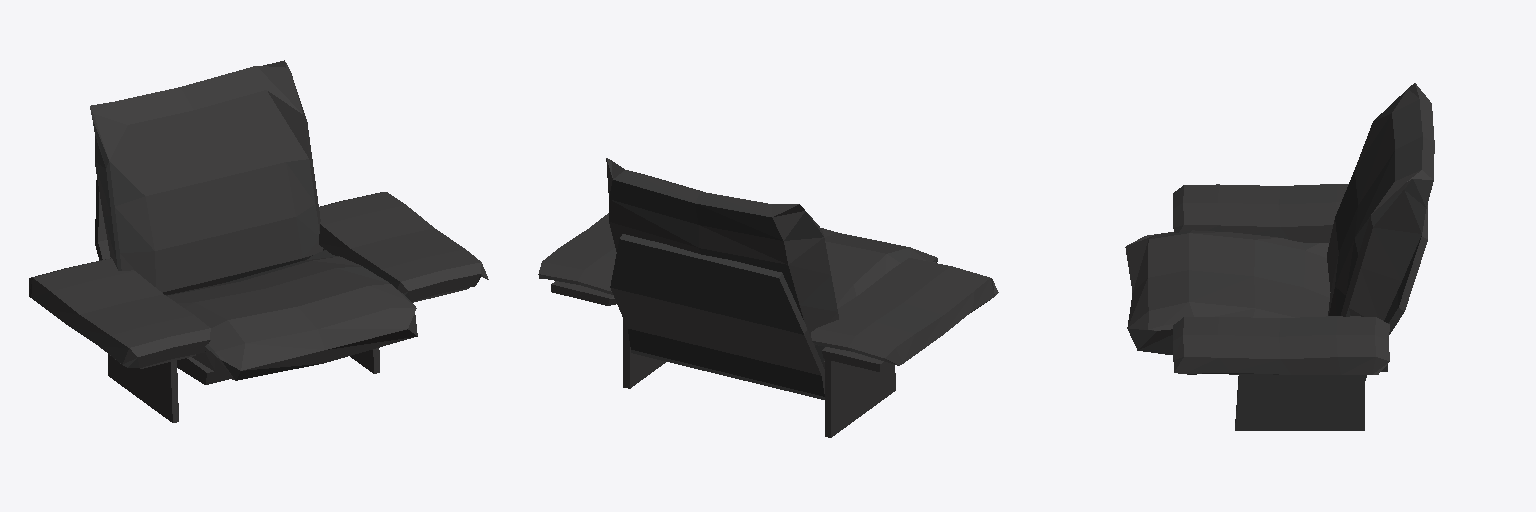
The model's file is Широкое кресло.obj.
3 renders of one model, left to right at view 1: azimuth 30°, elevation 25°; view 2: azimuth 150°, elevation 25°; view 3: azimuth 270°, elevation 25°, orthographic.
Parts seen in each view (by area): view 1: LR_chair_1_1; view 2: LR_chair_1_1; view 3: LR_chair_1_1.
Boxes of the visible parts, <box> form: LR_chair_1_1: <box>29,60,488,422</box>; LR_chair_1_1: <box>538,158,998,437</box>; LR_chair_1_1: <box>1125,83,1434,430</box>.
Size of the model in its own units: 138 by 91.63 by 103.